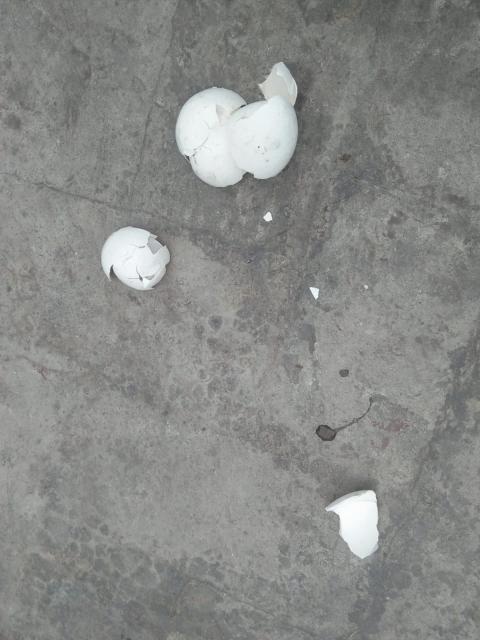Roto: (174, 61, 298, 188), (100, 225, 170, 290), (324, 488, 379, 559)
